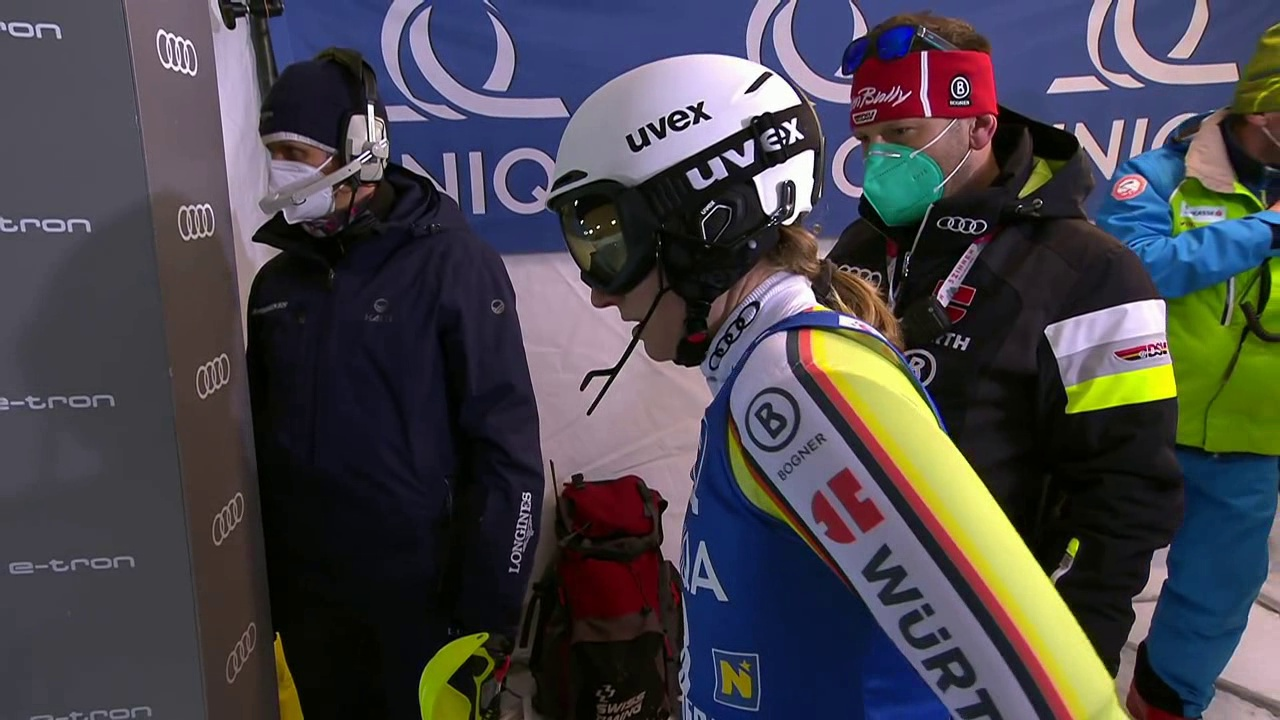audi: (148, 26, 206, 89), (220, 619, 264, 693), (205, 488, 253, 554), (189, 349, 238, 410), (169, 200, 223, 252), (928, 213, 997, 241)
etron: (11, 549, 133, 581), (5, 384, 116, 417)
